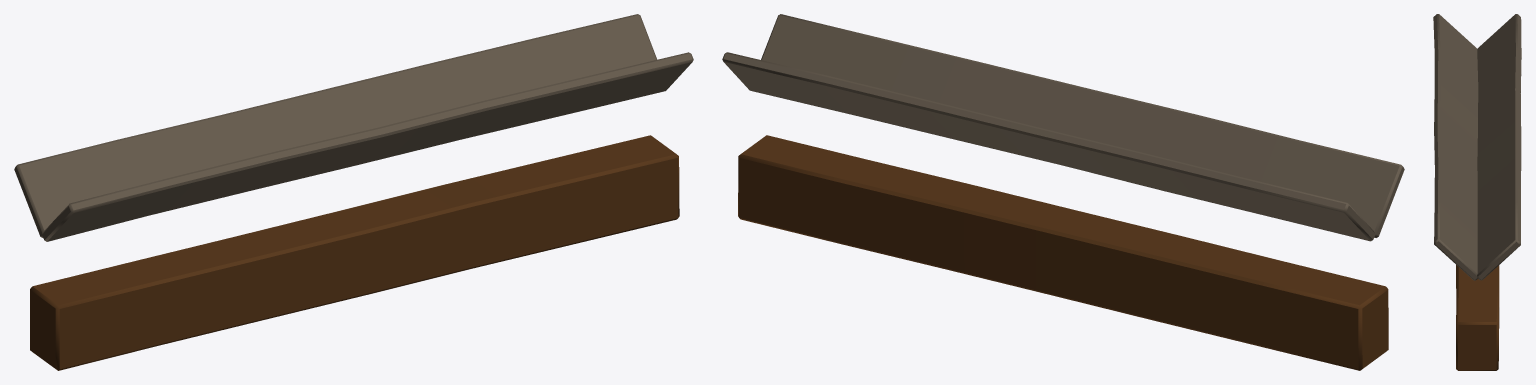
Rendered from dach_first.glb.
The picture shows the model from 3 angles, left to right: view 1: azimuth 30°, elevation 25°; view 2: azimuth 150°, elevation 25°; view 3: azimuth 270°, elevation 25°; orthographic projection. The views are drawn at different scales.
Visible parts, largest first — view 1: dach_first; view 2: dach_first; view 3: dach_first.
Part boxes in pixels (box(x1,y1,x2,y2)): dach_first: box(14, 14, 693, 370); dach_first: box(722, 14, 1404, 370); dach_first: box(1433, 14, 1521, 370).
Size of the model in its own units: 2 by 0.5456 by 0.3286.
